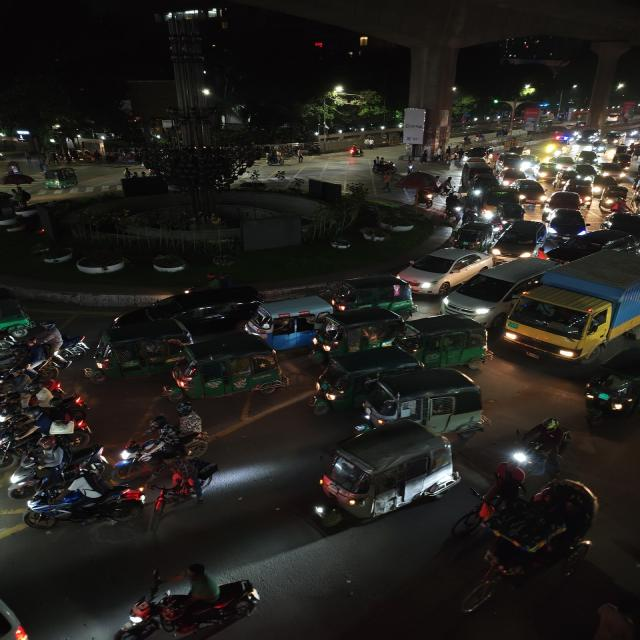car: (440, 259, 542, 319), (396, 247, 486, 293), (546, 230, 636, 264), (490, 219, 550, 263), (546, 207, 590, 237), (468, 170, 503, 204), (542, 190, 590, 214), (513, 178, 547, 204), (500, 152, 536, 174), (541, 136, 573, 155), (598, 161, 626, 179), (577, 150, 600, 165), (576, 129, 594, 144)
cng: (316, 421, 458, 521), (363, 366, 494, 442), (171, 334, 287, 402), (309, 347, 416, 413), (89, 320, 193, 381), (582, 339, 640, 425), (404, 314, 489, 370), (314, 307, 406, 357), (332, 274, 418, 316), (0, 281, 35, 338), (451, 223, 491, 250), (42, 165, 82, 192), (599, 185, 629, 211), (550, 169, 577, 188), (590, 141, 607, 154)
motorcycle: (120, 563, 265, 640), (3, 385, 104, 427), (509, 415, 573, 476), (4, 419, 99, 458), (10, 343, 78, 387), (118, 424, 174, 471), (6, 460, 59, 500), (369, 156, 398, 177), (345, 144, 365, 156)
pedestrian: (380, 175, 396, 193), (293, 147, 307, 165), (435, 146, 446, 163), (420, 149, 430, 164), (445, 146, 453, 162)
pickup_van: (480, 187, 511, 217)
rickshaw: (460, 471, 602, 617), (20, 471, 144, 534), (152, 456, 221, 514), (599, 185, 630, 211), (355, 223, 390, 245)
truck: (500, 249, 640, 364), (606, 131, 627, 145)
